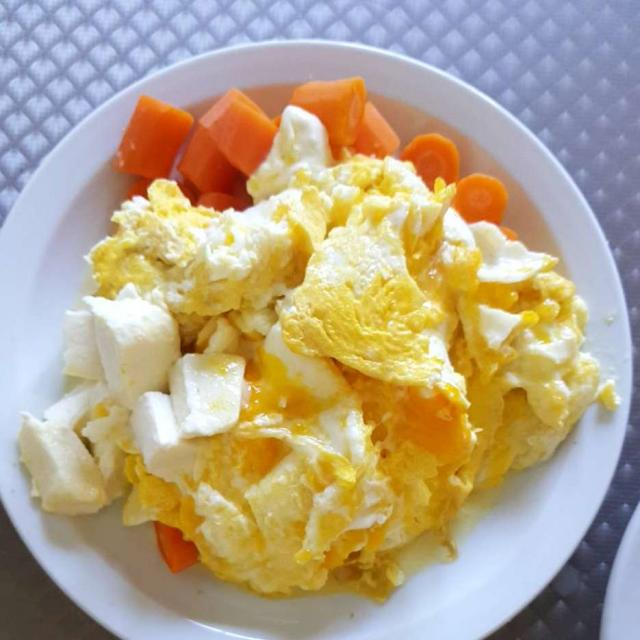carrot-steamed-without-addition-of-salt: (121, 72, 507, 216)
egg-scrambled-prepared: (103, 123, 599, 597)
mozzarella: (20, 283, 250, 515)
